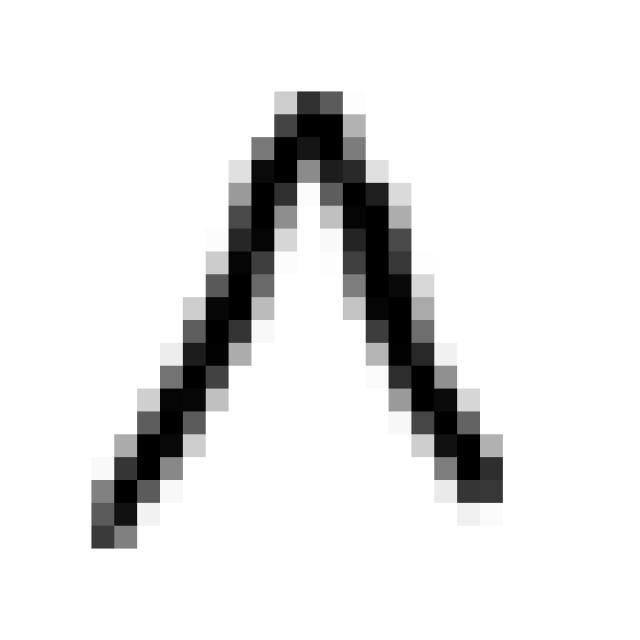8 -eight-: (68, 71, 516, 569)
